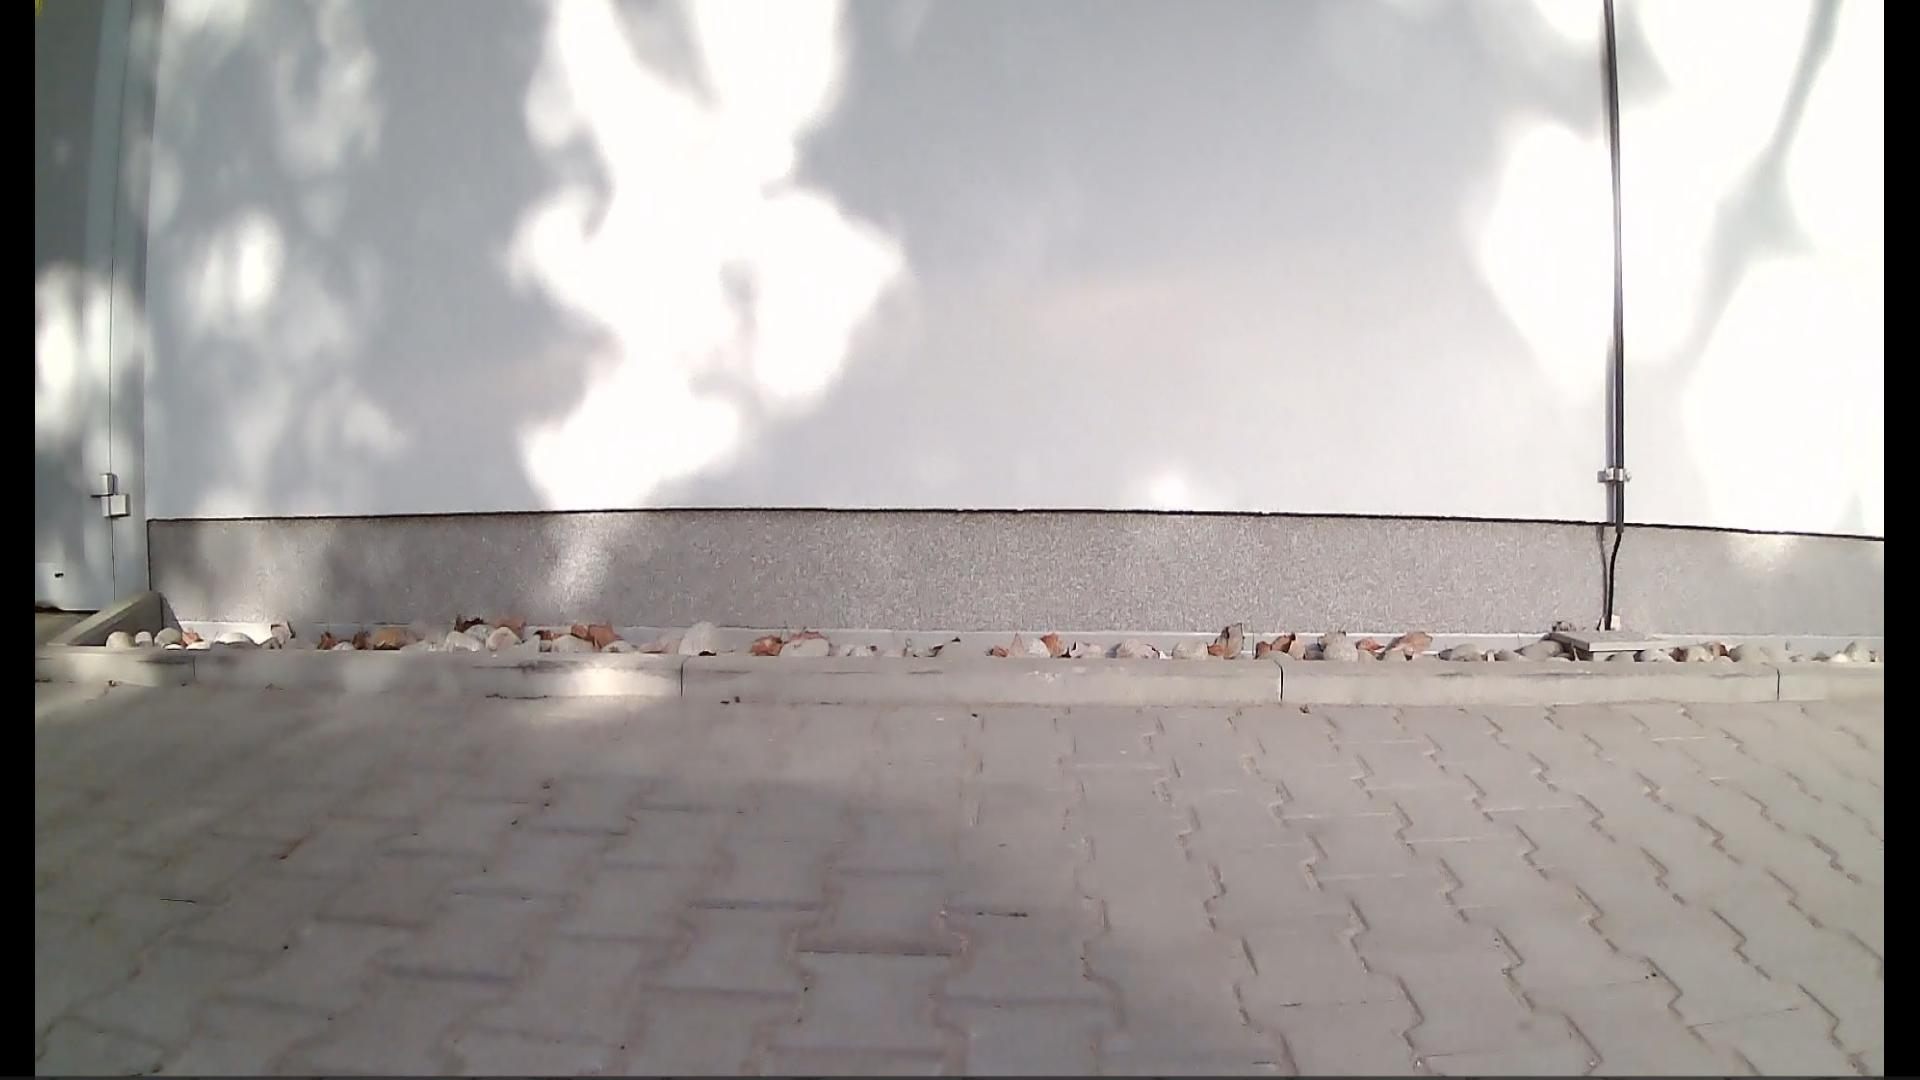wall: (167, 5, 1573, 616)
